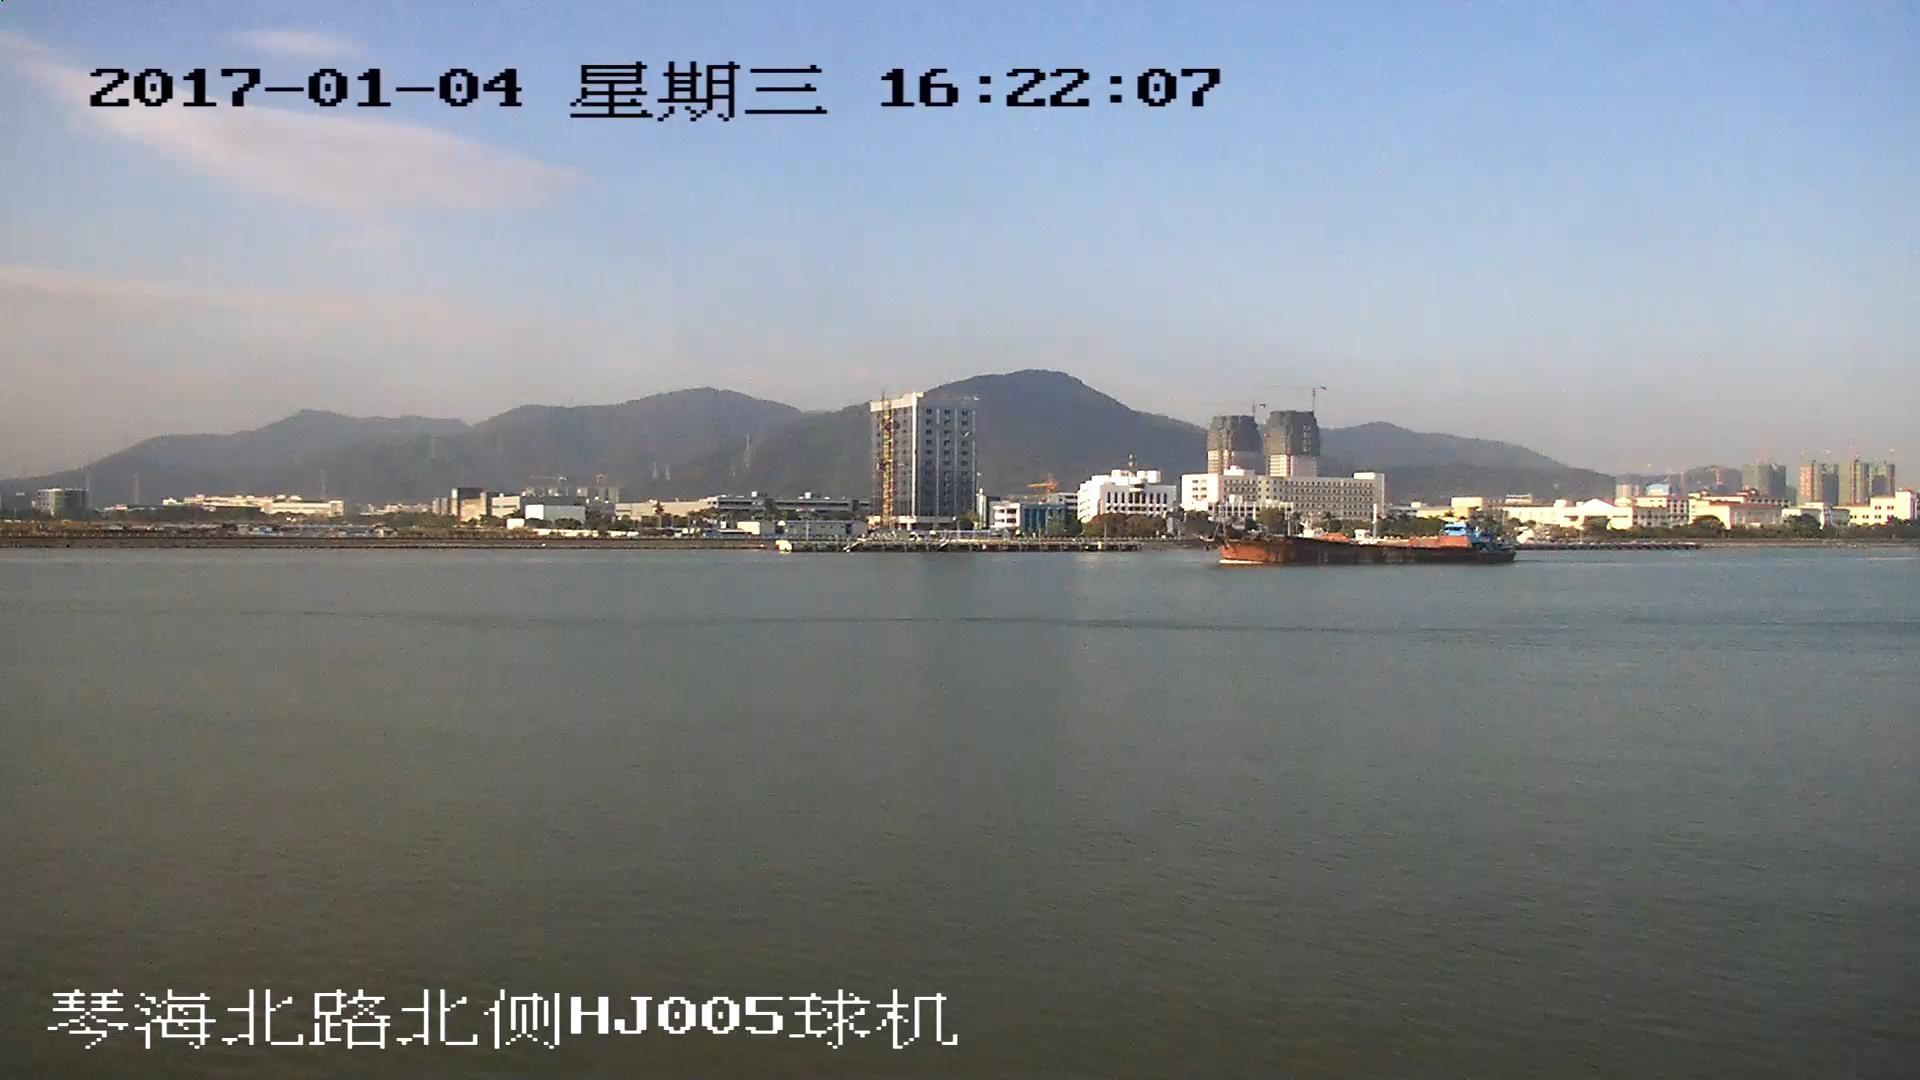bulk cargo carrier: (1174, 508, 1512, 567)
